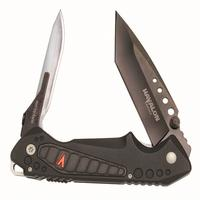knife: (99, 6, 195, 194), (13, 6, 78, 186)
